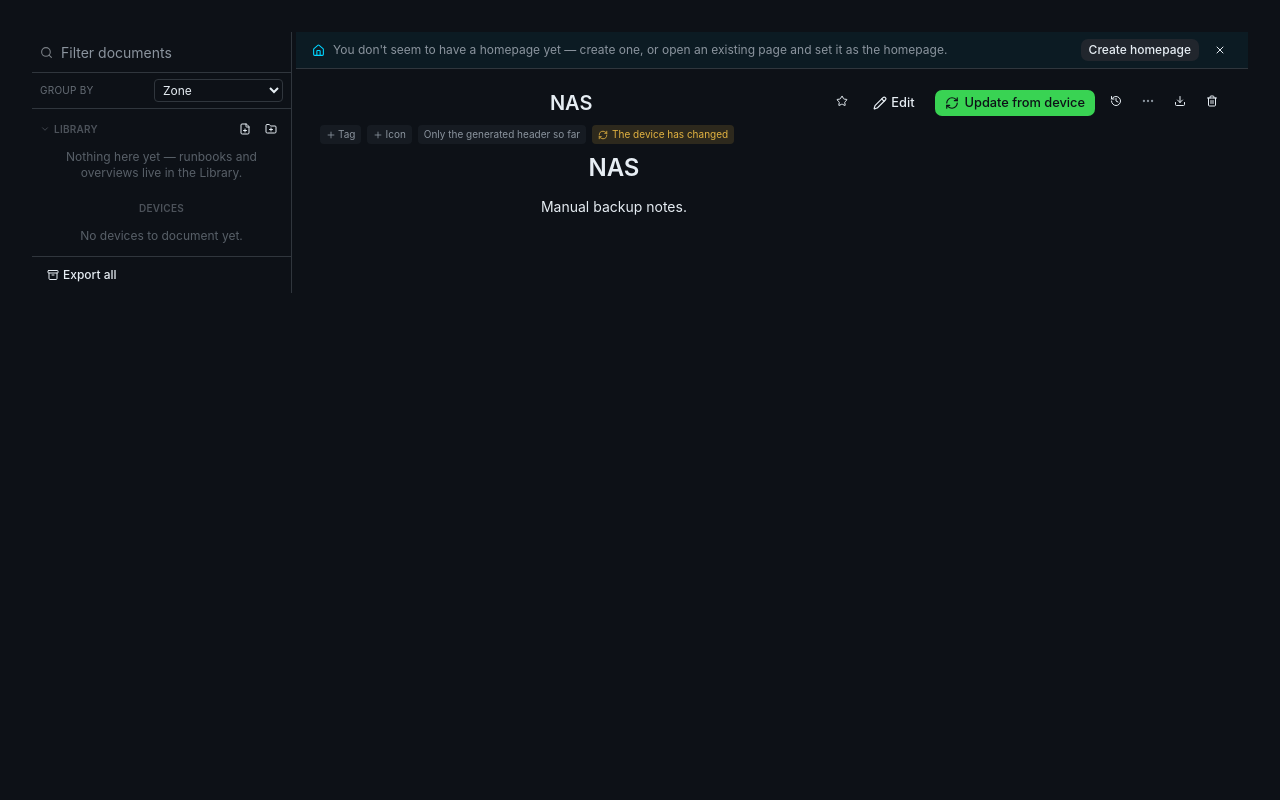
Test: DocumentationView — update from device › keeps a failed comparison visible without writing
Click the button "Update from device" at (1015, 103), box [934,89,1096,117]
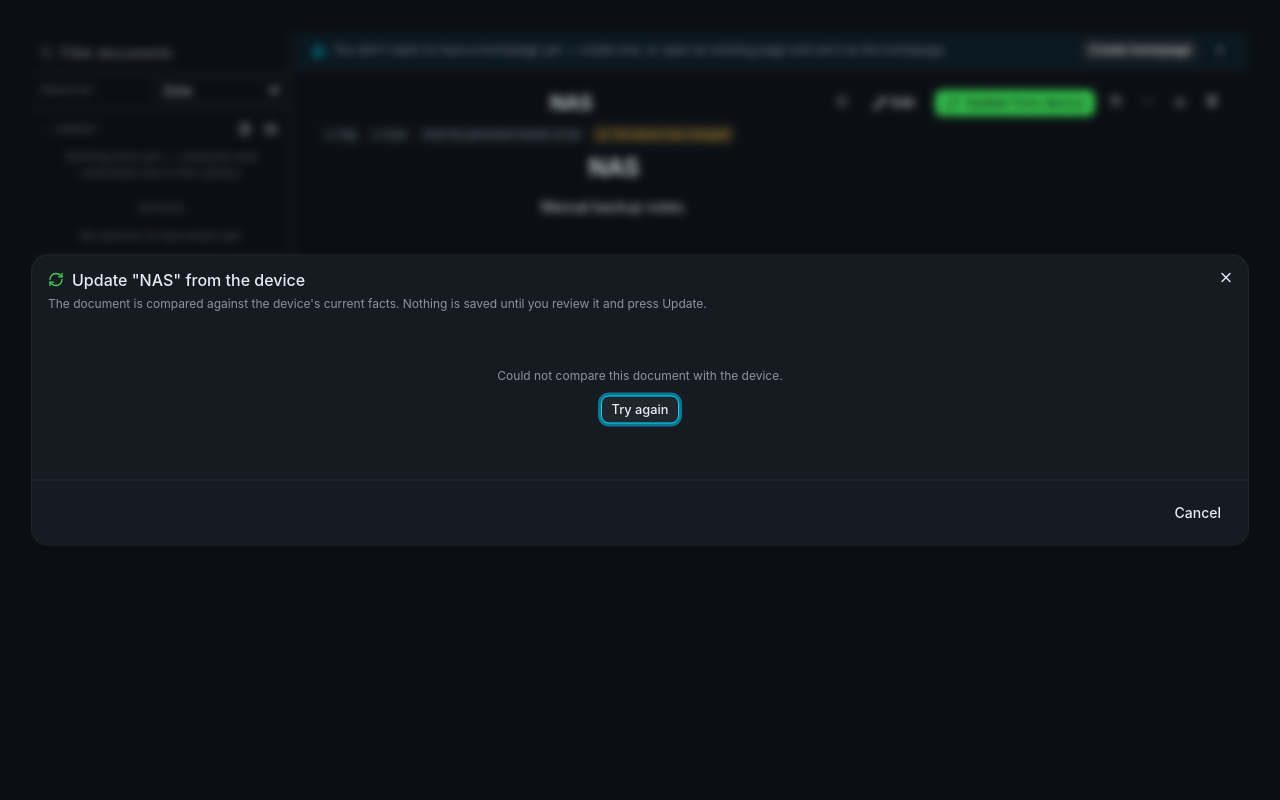
Result: the text "Could not compare this document with the device." is shown at [497,368,783,384]
Result: the button "Try again" is shown at [600,396,679,424]
